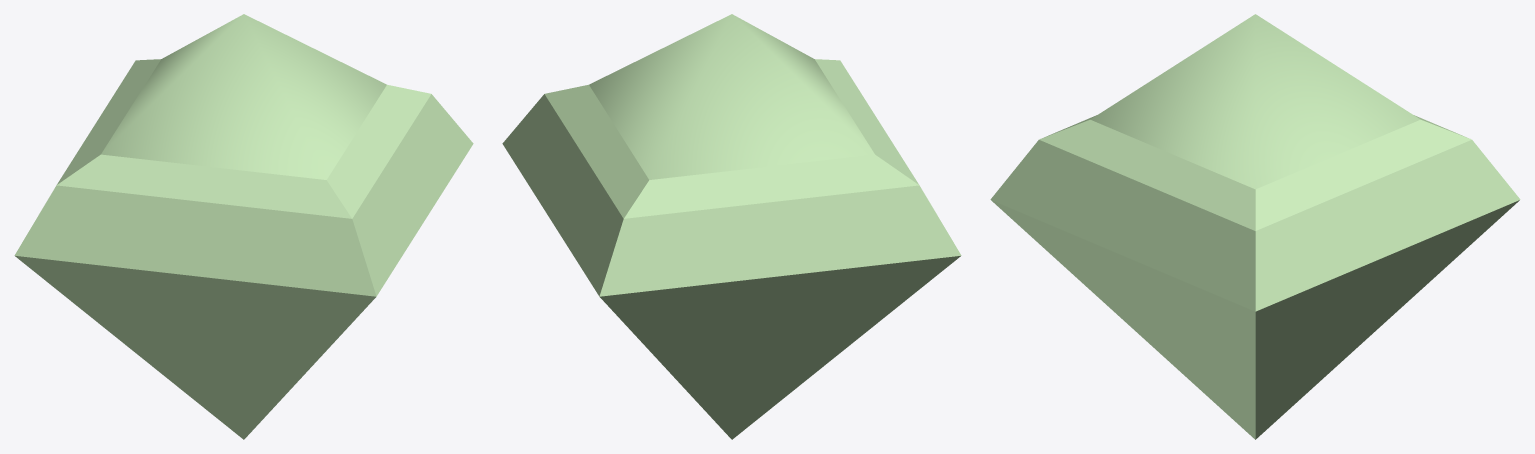
The model's file is prop_crystal_charlize.fbx.
3 views of the same model, side by side, from view 1: azimuth 30°, elevation 25°; view 2: azimuth 150°, elevation 25°; view 3: azimuth 270°, elevation 25° (orthographic).
Visible parts, largest first — view 1: prop_powerup_charlize; view 2: prop_powerup_charlize; view 3: prop_powerup_charlize.
Part boxes in pixels (x1,y1,x2,y2): prop_powerup_charlize: (14,14,473,439); prop_powerup_charlize: (502,14,961,439); prop_powerup_charlize: (990,14,1520,439).
Size of the model in its own units: 1.06 by 0.9402 by 1.06.
